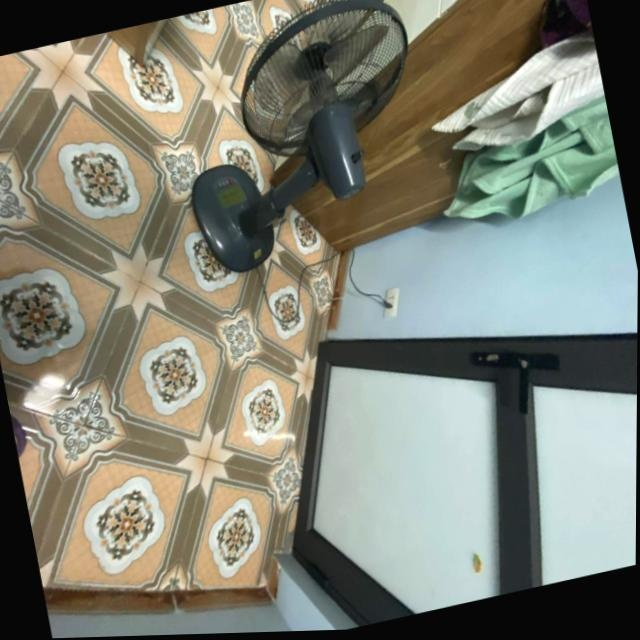outlet: (378, 286, 403, 320)
